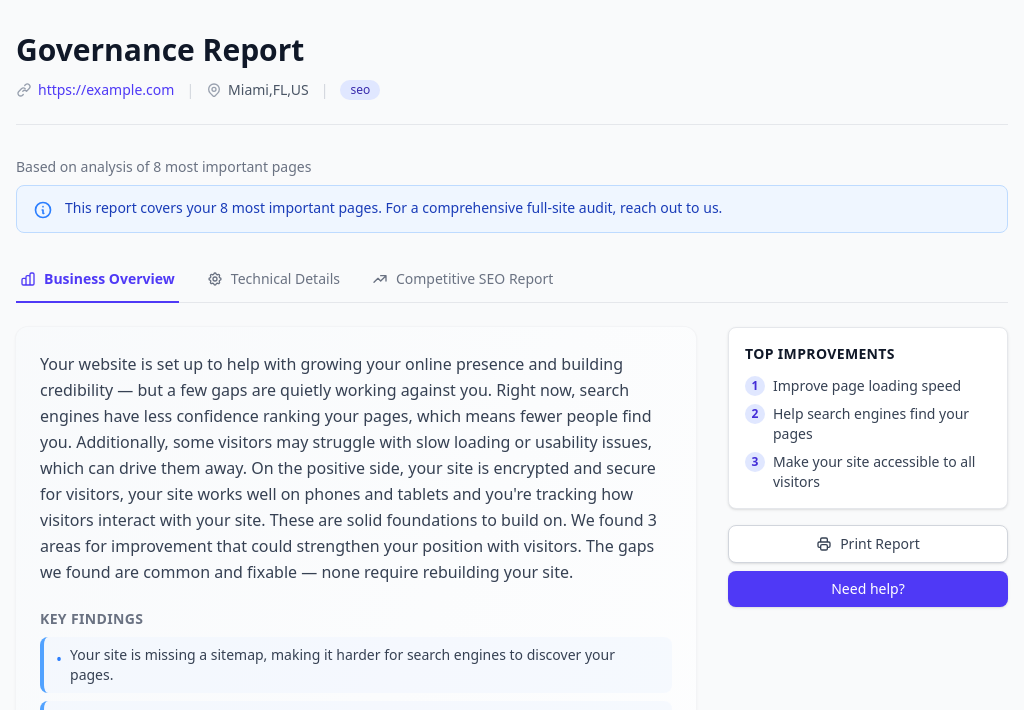
it: ReportPage (US-5.1) › shows competitor form on SEO tab, not on business or technical tabs
Check: the text "enter competitor urls" is not shown
Click SEO tab — competitor form SHOULD be visible
Click the tab "Competitive SEO Report": (463, 280) x1=368 y1=257 x2=558 y2=303
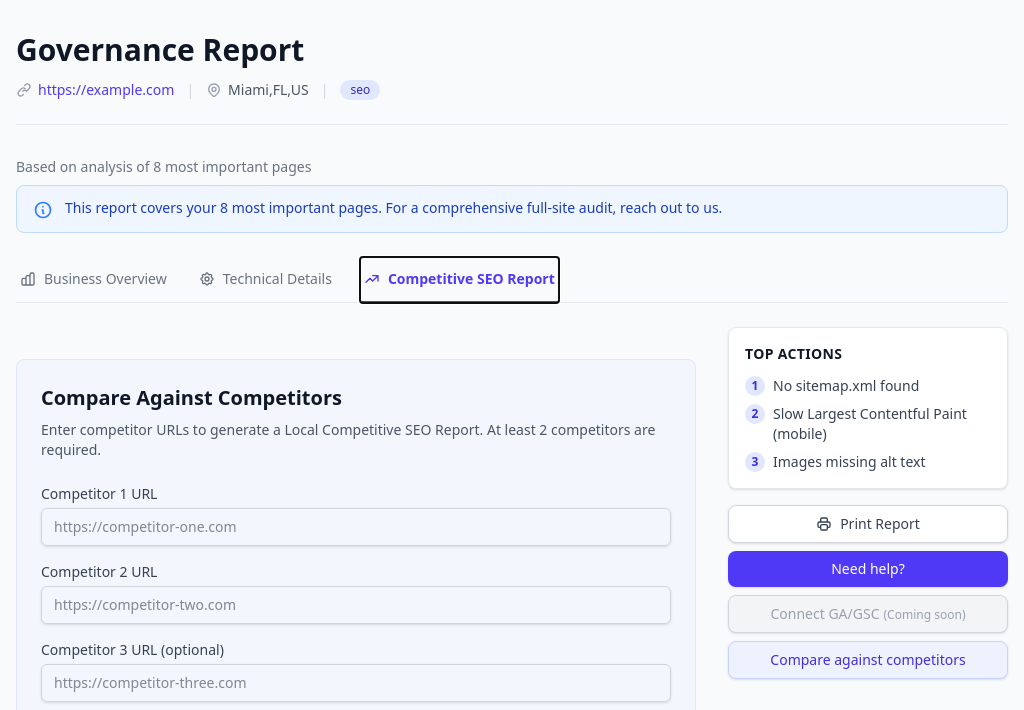
Check: the text "Enter competitor URLs" is shown, box x1=41 y1=420 x2=655 y2=459
